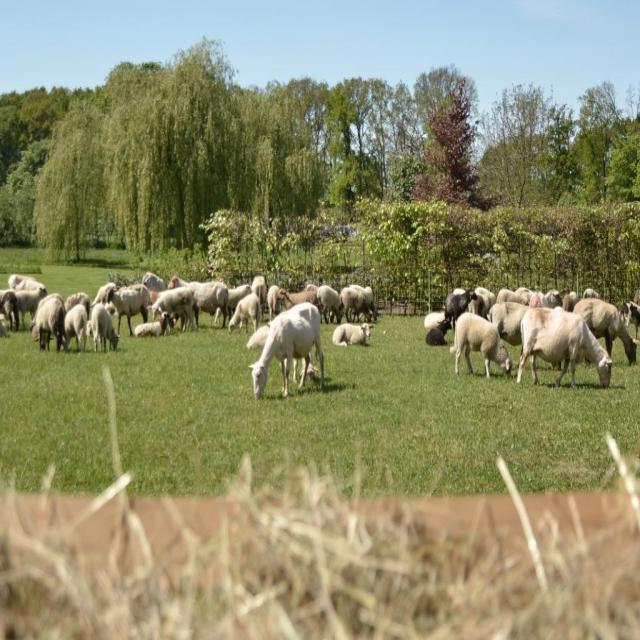Cattle: (0, 272, 640, 400)
